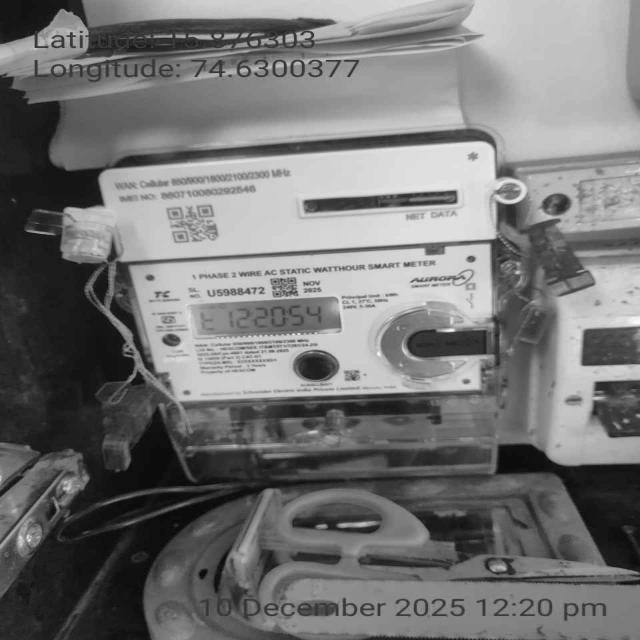meter: (100, 140, 505, 402)
